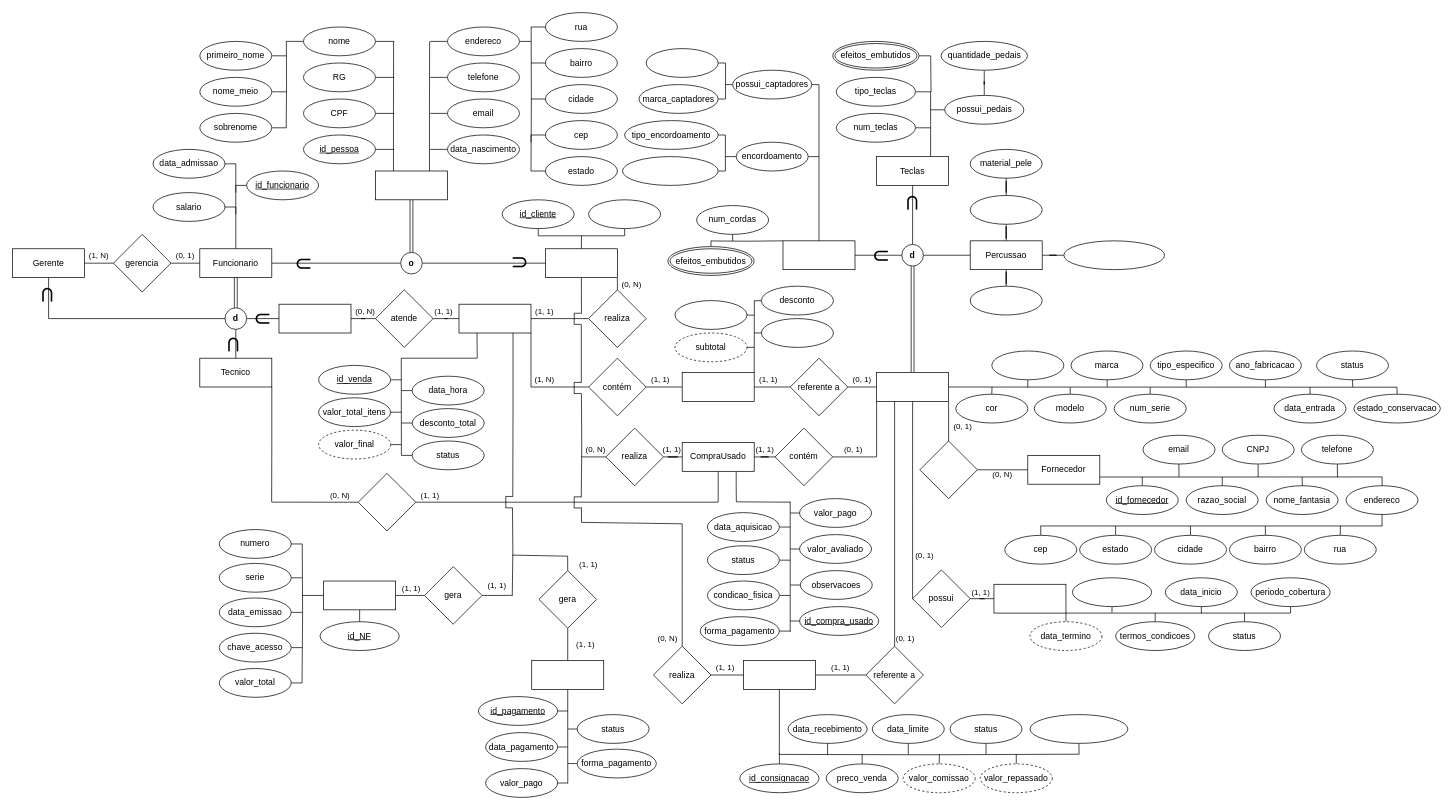
Some shapes in this 1453 by 810 pixel diagram are drawn without their labels. Here are the shapes that lost their labels. From the top down, the centre of each, then its label:
the point at 681,62: tipo_captadores
the point at 411,185: Pessoa
the point at 670,170: marca_encordoamento
the point at 624,214: data_cadastro
the point at 1005,209: possui_pele
the point at 581,263: Cliente
the point at 818,255: Cordas
the point at 1114,255: quantidade_tambores
the point at 314,318: Vendedor
the point at 494,318: Venda
the point at 710,314: id_item_venda
the point at 1005,300: material
the point at 797,332: preco
the point at 1027,365: id_instrumento
the point at 717,386: ItemVenda
the point at 912,386: Instrumento
the point at 948,469: fornecido por
the point at 386,502: avalia
the point at 359,595: NotaFiscal
the point at 1029,598: Garantia
the point at 1112,592: id_garantia
the point at 567,674: Pagamento
the point at 779,674: Consignacao
the point at 1078,728: percentual_comissao
